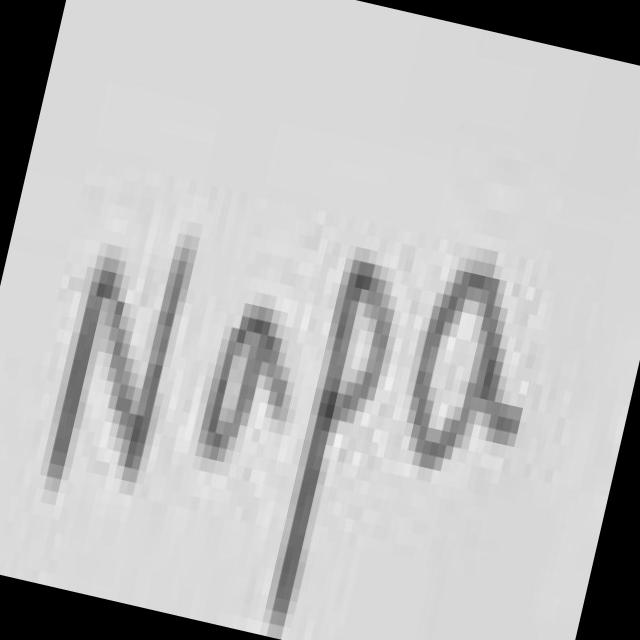N: (48, 248, 192, 491)
a: (415, 273, 521, 467), (206, 318, 290, 459)
p: (268, 257, 393, 635)
